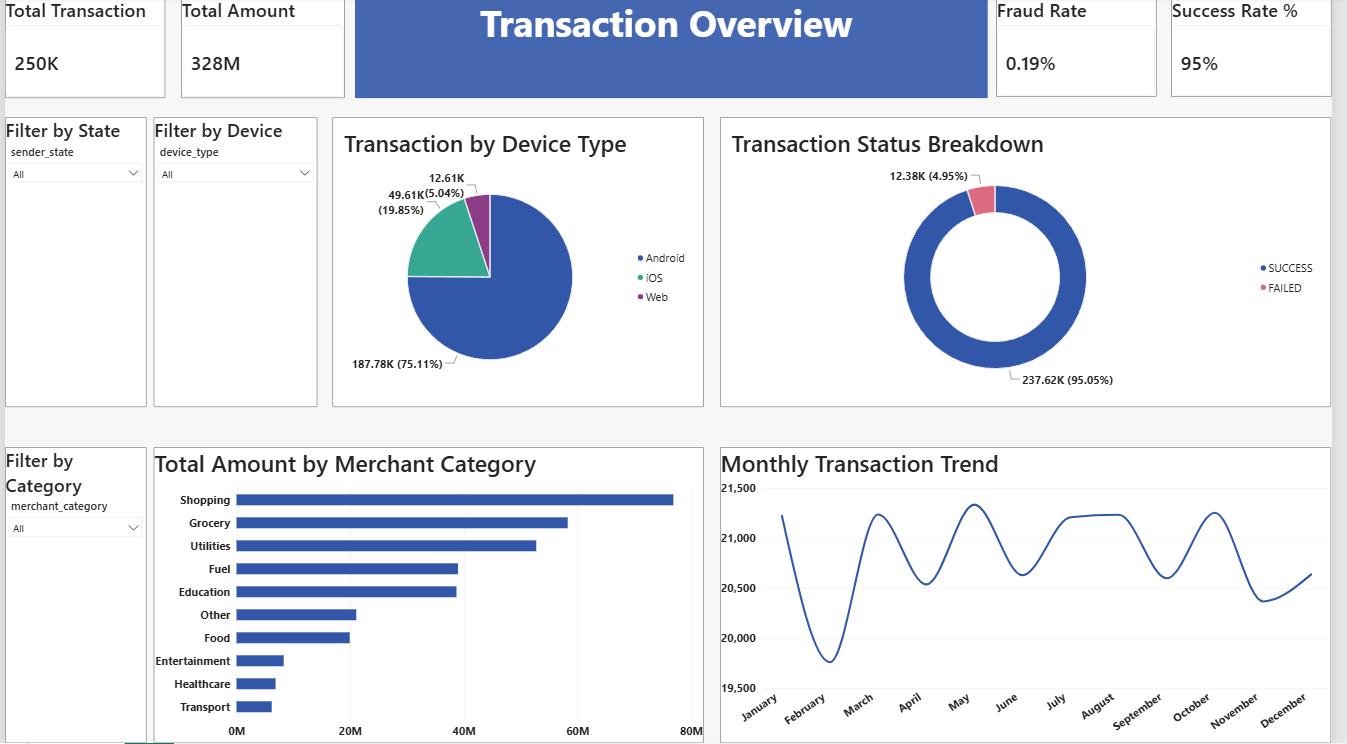

The page's visual inventory and layout, read from the dashboard file:
{"tool":"powerbi","page":{"name":"Page 1","canvas":[1920,1080],"ordinal":0},"visuals":[{"type":"cardVisual","title":"Total Transaction","fields":{"Data":["CountNonNull(paytm_db paytm_transaction.transaction id)"]},"box":[0,0,231.6,146.6],"z":0},{"type":"cardVisual","title":"Total Amount","fields":{"Data":["Sum(paytm_db paytm_transaction.amount (INR))"]},"box":[255.2,0,237.1,146.6],"z":1000},{"type":"cardVisual","title":"Fraud Rate","fields":{"Data":["paytm_db paytm_transaction.Fraude Rate %"]},"box":[1435.1,0,231.6,144.8],"z":2000},{"type":"cardVisual","title":"Success Rate %","fields":{"Data":["paytm_db paytm_transaction.success rate %"]},"box":[1688.4,0,231.6,144.8],"z":3000},{"type":"barChart","title":"Total Amount by Merchant Category","fields":{"Category":["paytm_db paytm_transaction.merchant_category"],"Y":["Sum(paytm_db paytm_transaction.amount (INR))"]},"box":[215.3,651.5,796.3,428.9],"z":5000},{"type":"lineChart","title":"Monthly Transaction Trend","fields":{"Category":["paytm_db paytm_transaction.timestamp.Variation.Date Hierarchy.Month"],"Y":["CountNonNull(paytm_db paytm_transaction.transaction id)"]},"box":[1035.1,651.5,884.9,428.9],"z":6000},{"type":"pieChart","title":"Transaction  by Device Type","fields":{"Category":["paytm_db paytm_transaction.device_type"],"Y":["CountNonNull(paytm_db paytm_transaction.transaction id)"]},"box":[474.1,173.7,537.5,419.8],"z":7000},{"type":"slicer","title":"Filter by State","fields":{"Values":["paytm_db paytm_transaction.sender_state"]},"box":[0,173.7,204.5,419.8],"z":8000},{"type":"slicer","title":"Filter by Category","fields":{"Values":["paytm_db paytm_transaction.merchant_category"]},"box":[0,651.5,204.5,428.9],"z":9000},{"type":"slicer","title":"Filter by Device","fields":{"Values":["paytm_db paytm_transaction.device_type"]},"box":[215.3,173.7,237.1,419.8],"z":10000},{"type":"donutChart","title":"Transaction Status Breakdown","fields":{"Category":["paytm_db paytm_transaction.transaction_status"],"Y":["CountNonNull(paytm_db paytm_transaction.transaction id)"]},"box":[1035.1,173.7,884.9,419.8],"z":10001},{"type":"textbox","box":[506.7,0,915.7,146.6],"z":10002}]}

Visuals, with their boxes in screenshot pixels (x1, y1, x2, y2), scaled from the page's 1920x1080 canvas onto the 1347x744 screenshot:
"Total Transaction" cardVisual: box(0, 0, 162, 101)
"Total Amount" cardVisual: box(179, 0, 345, 101)
"Fraud Rate" cardVisual: box(1007, 0, 1169, 100)
"Success Rate %" cardVisual: box(1185, 0, 1346, 100)
"Total Amount by Merchant Category" barChart: box(151, 449, 710, 743)
"Monthly Transaction Trend" lineChart: box(726, 449, 1346, 743)
"Transaction  by Device Type" pieChart: box(333, 120, 710, 409)
"Filter by State" slicer: box(0, 120, 143, 409)
"Filter by Category" slicer: box(0, 449, 143, 743)
"Filter by Device" slicer: box(151, 120, 317, 409)
"Transaction Status Breakdown" donutChart: box(726, 120, 1346, 409)
textbox: box(355, 0, 998, 101)
